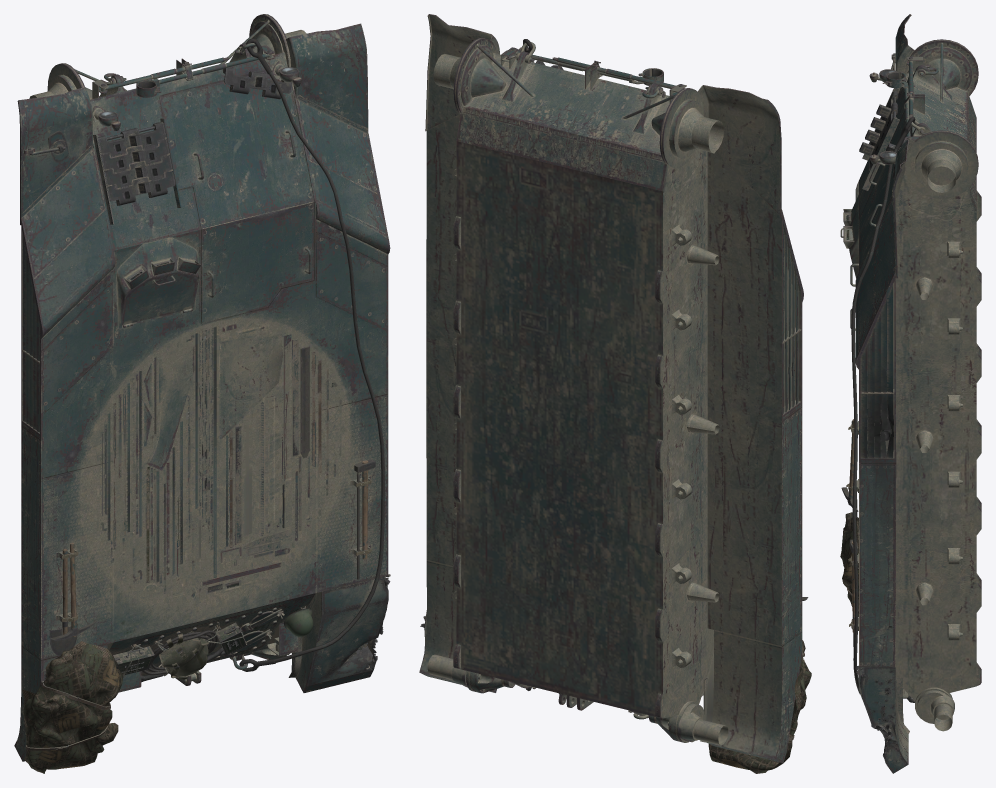
The model's file is Hull.glb.
3 renders of one model, left to right at view 1: azimuth 30°, elevation 25°; view 2: azimuth 150°, elevation 25°; view 3: azimuth 270°, elevation 25°, orthographic. The views are drawn at different scales.
Parts seen in each view (by area): view 1: set_0_group_0; view 2: set_0_group_0; view 3: set_0_group_0.
Part boxes in pixels (x1,y1,x2,y2): set_0_group_0: (14,14,390,773); set_0_group_0: (419,14,811,773); set_0_group_0: (840,14,981,773).
Size of the model in its own units: 3.36 by 5.91 by 1.21.
Materials: 1 (1 with a texture image).
